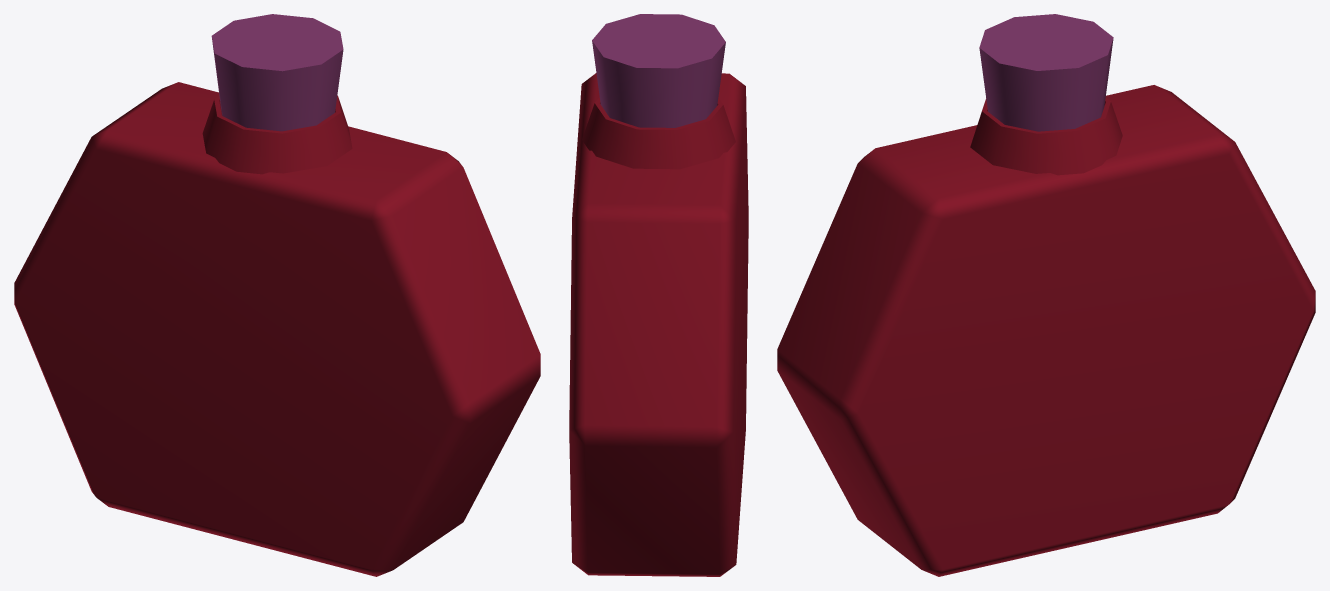
The model's file is flask1.obj.
The picture shows the model from 3 angles, left to right: view 1: azimuth 30°, elevation 25°; view 2: azimuth 150°, elevation 25°; view 3: azimuth 270°, elevation 25°; orthographic projection.
Parts seen in each view (by area): view 1: flaska; view 2: flaska; view 3: flaska.
Part boxes in pixels (box(x1,y1,x2,y2)): flaska: box(14, 14, 540, 576); flaska: box(569, 14, 748, 576); flaska: box(777, 14, 1315, 576).
Size of the model in its own units: 0.6412 by 0.8625 by 0.8809.
